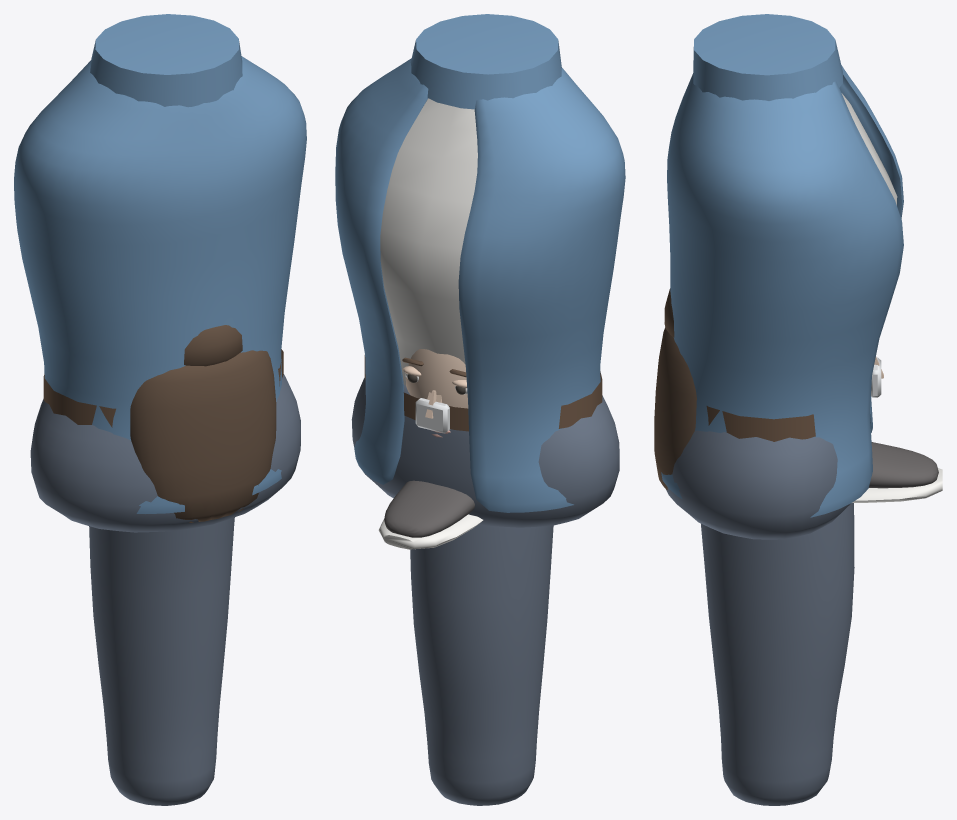
File: Character_CasualFemale.fbx
The picture shows the model from 3 angles, left to right: view 1: azimuth 30°, elevation 25°; view 2: azimuth 150°, elevation 25°; view 3: azimuth 270°, elevation 25°; orthographic projection.
Parts seen in each view (by area): view 1: Part_Chest, Part_L_Thigh, Part_Head, Part_Pelvis; view 2: Part_Chest, Part_L_Thigh, Part_Pelvis, Part_L_Foot, Part_Head; view 3: Part_Chest, Part_L_Thigh, Part_Pelvis, Part_Head, Part_L_Foot.
Boxes of the visible parts, left/top/right/bottom form: Part_Chest: left=14, top=14, right=306, bottom=513; Part_L_Thigh: left=89, top=517, right=234, bottom=805; Part_Head: left=130, top=325, right=276, bottom=522; Part_Pelvis: left=30, top=349, right=300, bottom=532; Part_Chest: left=335, top=14, right=625, bottom=512; Part_L_Thigh: left=410, top=524, right=553, bottom=805; Part_Pelvis: left=351, top=355, right=619, bottom=527; Part_L_Foot: left=378, top=480, right=483, bottom=549; Part_Head: left=402, top=349, right=468, bottom=437; Part_Chest: left=661, top=14, right=903, bottom=517; Part_L_Thigh: left=700, top=503, right=854, bottom=805; Part_Pelvis: left=666, top=357, right=881, bottom=539; Part_Head: left=654, top=288, right=883, bottom=490; Part_L_Foot: left=852, top=442, right=942, bottom=502.
Bounding box in the file's own units: 0.3657 × 0.983 × 0.3418.
